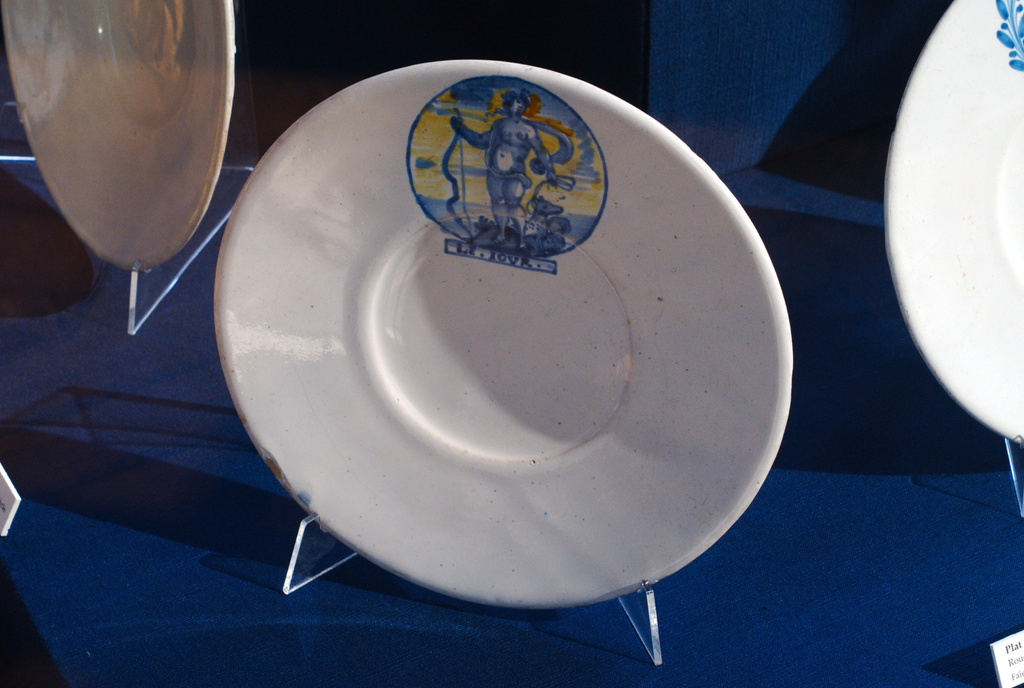plate: (211, 59, 792, 609)
